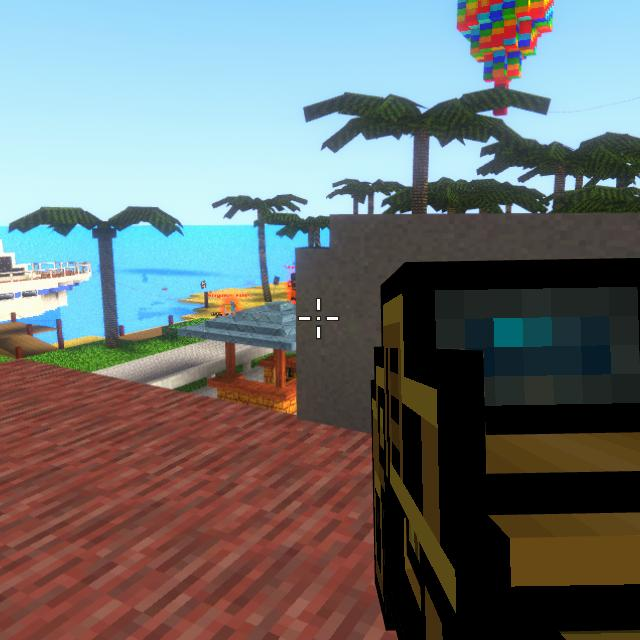Enemy: (289, 273, 295, 301)
